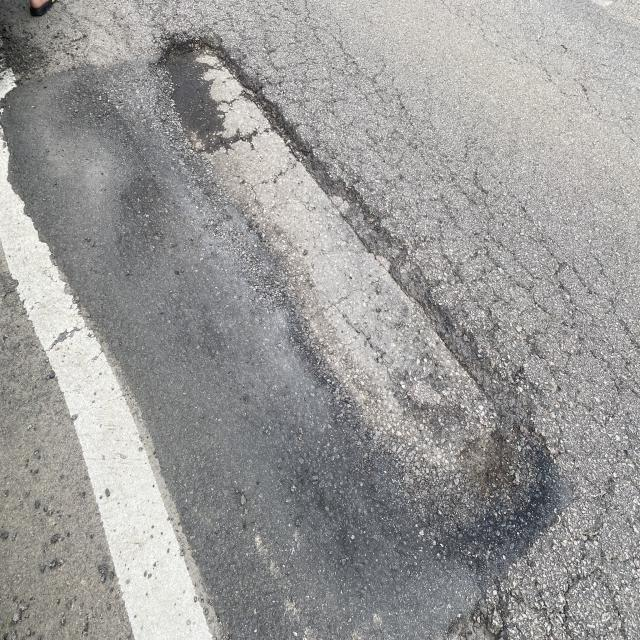Pothole: (380, 362, 609, 598), (130, 35, 274, 175)
